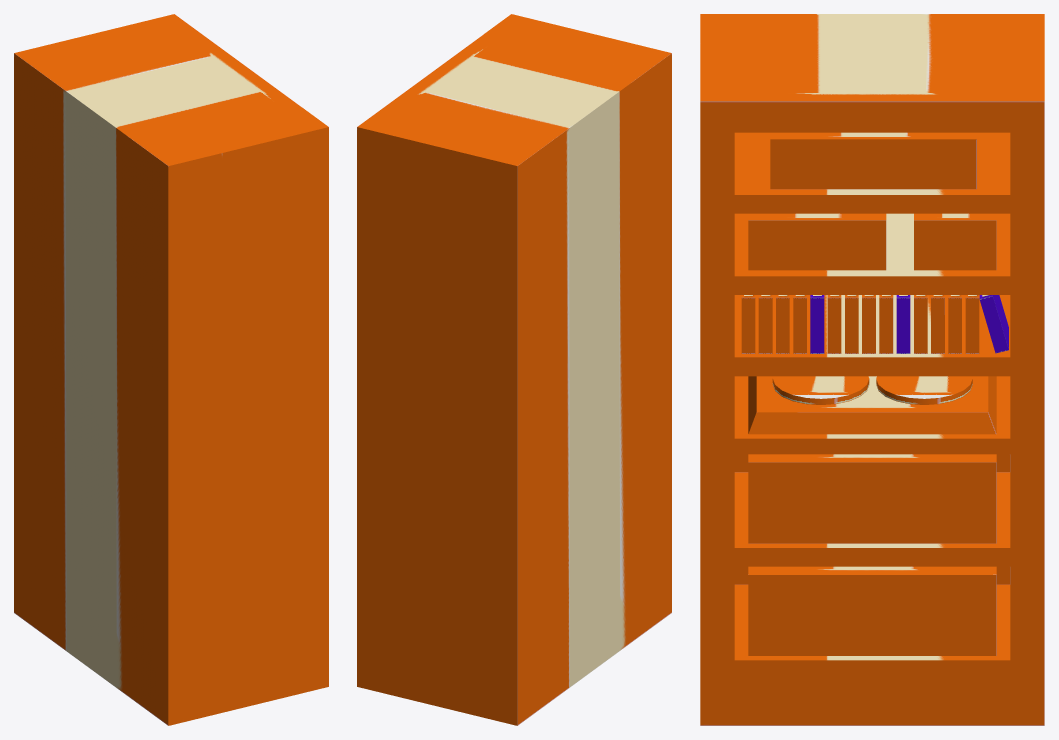
File: librero.obj
3 renders of one model, left to right at view 1: azimuth 30°, elevation 25°; view 2: azimuth 150°, elevation 25°; view 3: azimuth 270°, elevation 25°, orthographic. The views are drawn at different scales.
Parts seen in each view (by area): view 1: pasted__pCube13 group1; view 2: pasted__pCube13 group1; view 3: pasted__pCube13 group1, pasted__pCube14 group2, pCube14, pasted__pCube16 group20, pasted__pasted__pCube14 pasted__group2 group3, pCube16, pasted__pasted__pasted__pasted__pasted__pasted__pasted__pasted__, pasted__pCube16 group19, pCylinder1, pasted__pCylinder1 group4, pCube15, pasted__pasted__pasted__pasted__pCube15 pasted__pasted__pasted__ (+6 smaller).
Part boxes in pixels (x1=…): pasted__pCube13 group1: x1=14, y1=14, x2=328, y2=725; pasted__pCube13 group1: x1=357, y1=14, x2=671, y2=725; pasted__pCube13 group1: x1=700, y1=14, x2=1044, y2=725; pasted__pCube14 group2: x1=748, y1=454, x2=996, y2=543; pCube14: x1=748, y1=566, x2=996, y2=655; pasted__pCube16 group20: x1=770, y1=132, x2=976, y2=189; pasted__pasted__pCube14 pasted__group2 group3: x1=748, y1=376, x2=996, y2=434; pCube16: x1=748, y1=213, x2=886, y2=270; pasted__pasted__pasted__pasted__pasted__pasted__pasted__pasted__: x1=879, y1=295, x2=1008, y2=353; pasted__pCube16 group19: x1=914, y1=213, x2=996, y2=270; pCylinder1: x1=772, y1=376, x2=869, y2=404; pasted__pCylinder1 group4: x1=876, y1=376, x2=972, y2=404; pCube15: x1=741, y1=295, x2=755, y2=353; pasted__pasted__pasted__pasted__pCube15 pasted__pasted__pasted__: x1=810, y1=295, x2=824, y2=353.
Bounding box in the file's own units: 3 × 10 × 5.
Materials: 12 (11 with a texture image).
